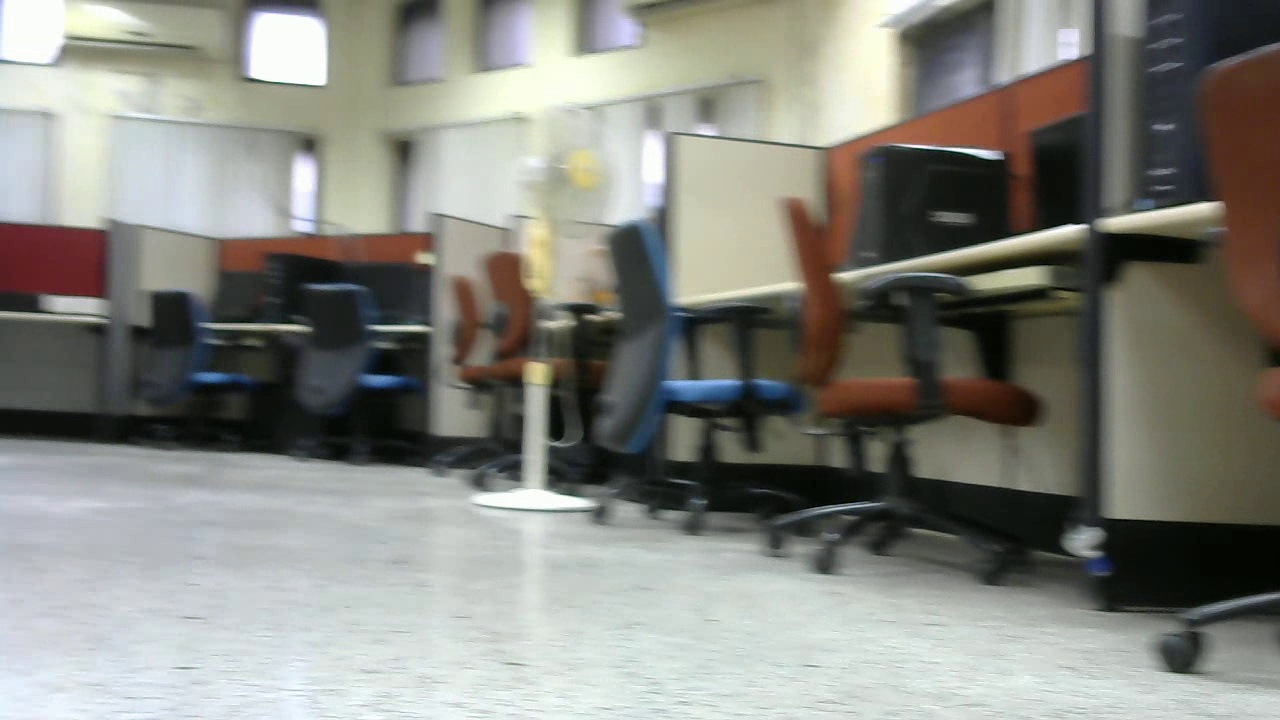chair: (755, 196, 1044, 585), (582, 218, 794, 533), (429, 244, 618, 492), (290, 284, 416, 476), (140, 290, 265, 457)
